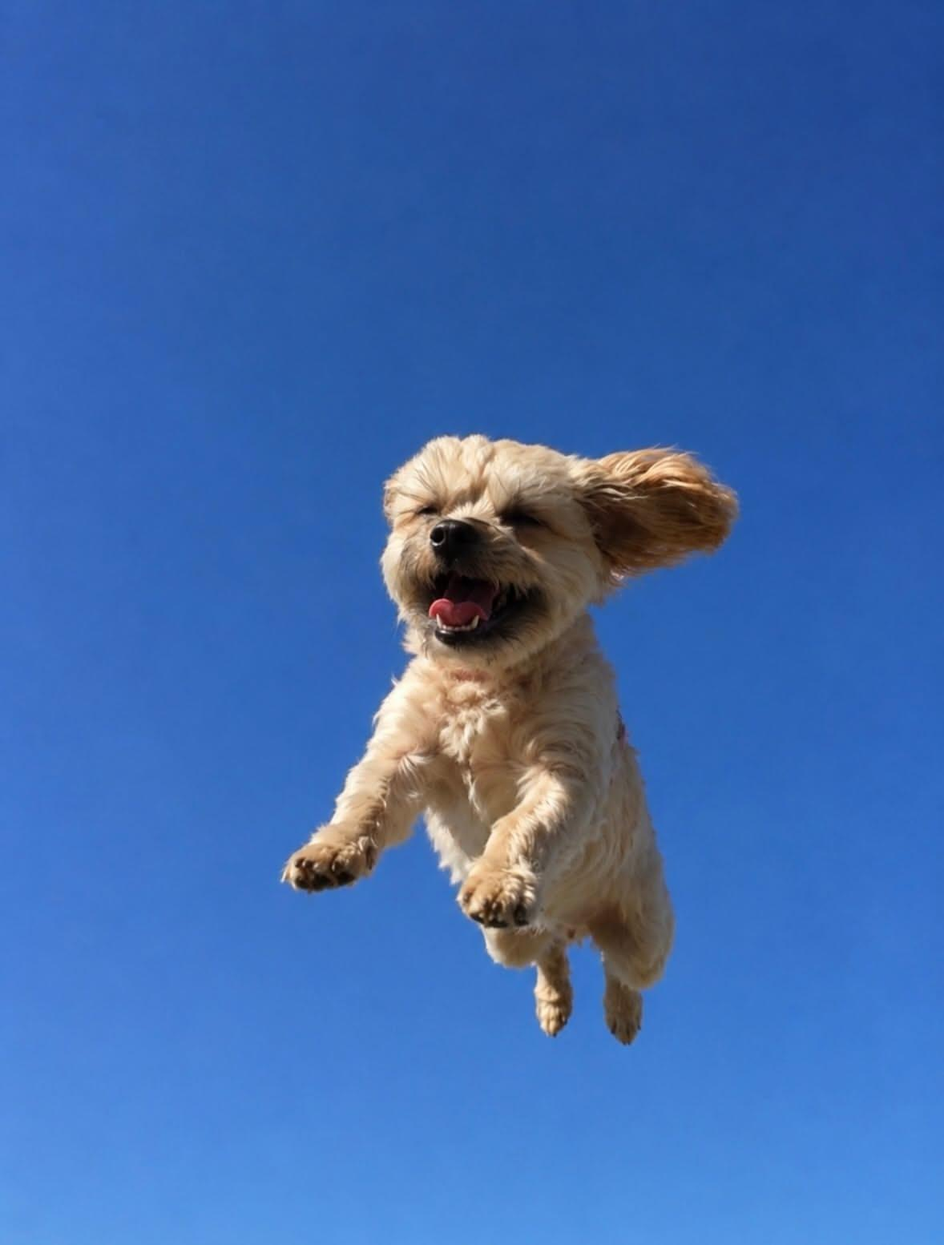adult_dog: (279, 433, 740, 1047)
